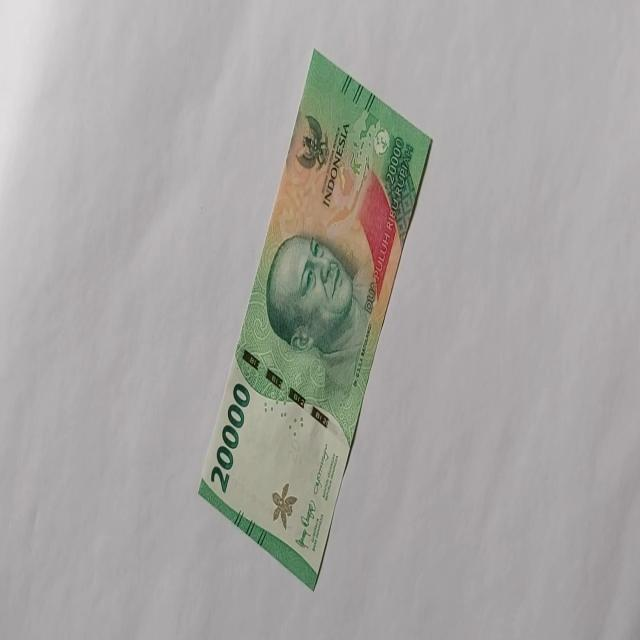dua puluh ribu rupiah: (197, 46, 433, 590), (264, 229, 372, 392)
